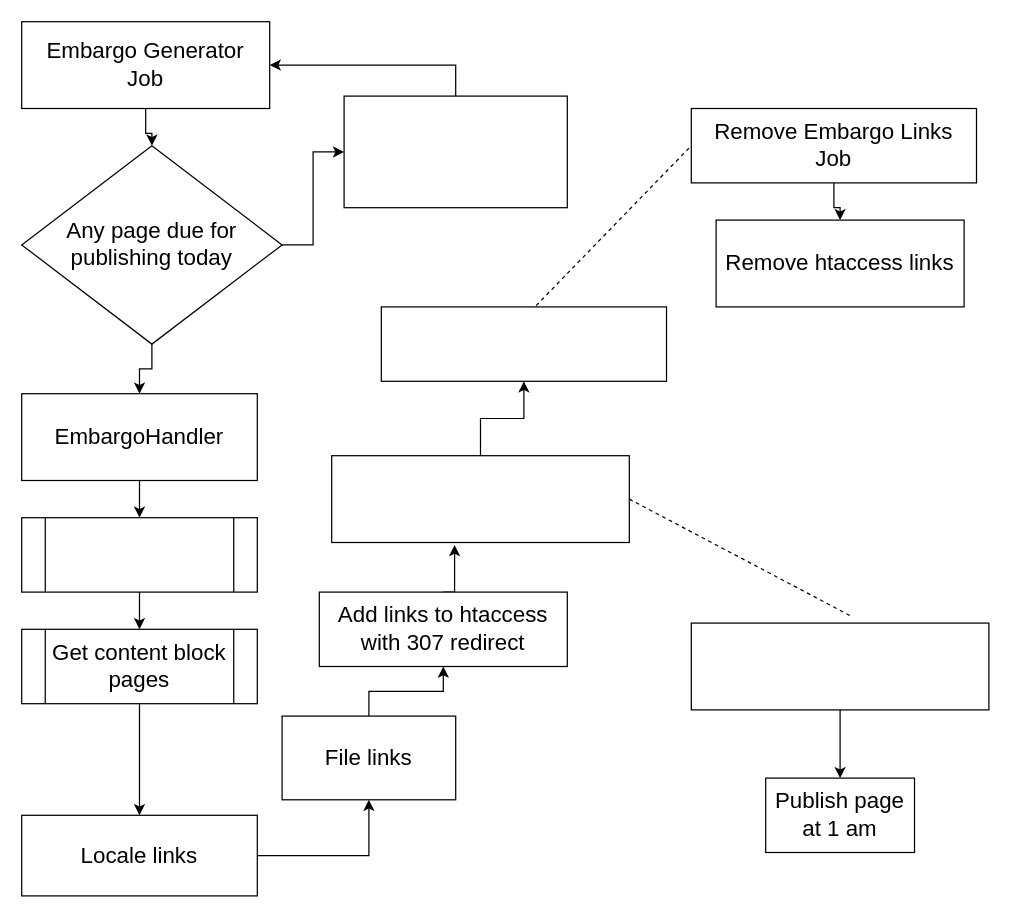
This 1011x918 diagram has some shape labels left out. Each missing label, with the centre of its shape:
"Get pages" goes at [138,554].
"Publish Embargo Page" goes at [479,498].
"Publish Embargo Page Job" goes at [839,666].
"Remove Embargo Links" goes at [523,343].
"Schedule next job tomorrow" goes at [455,151].
